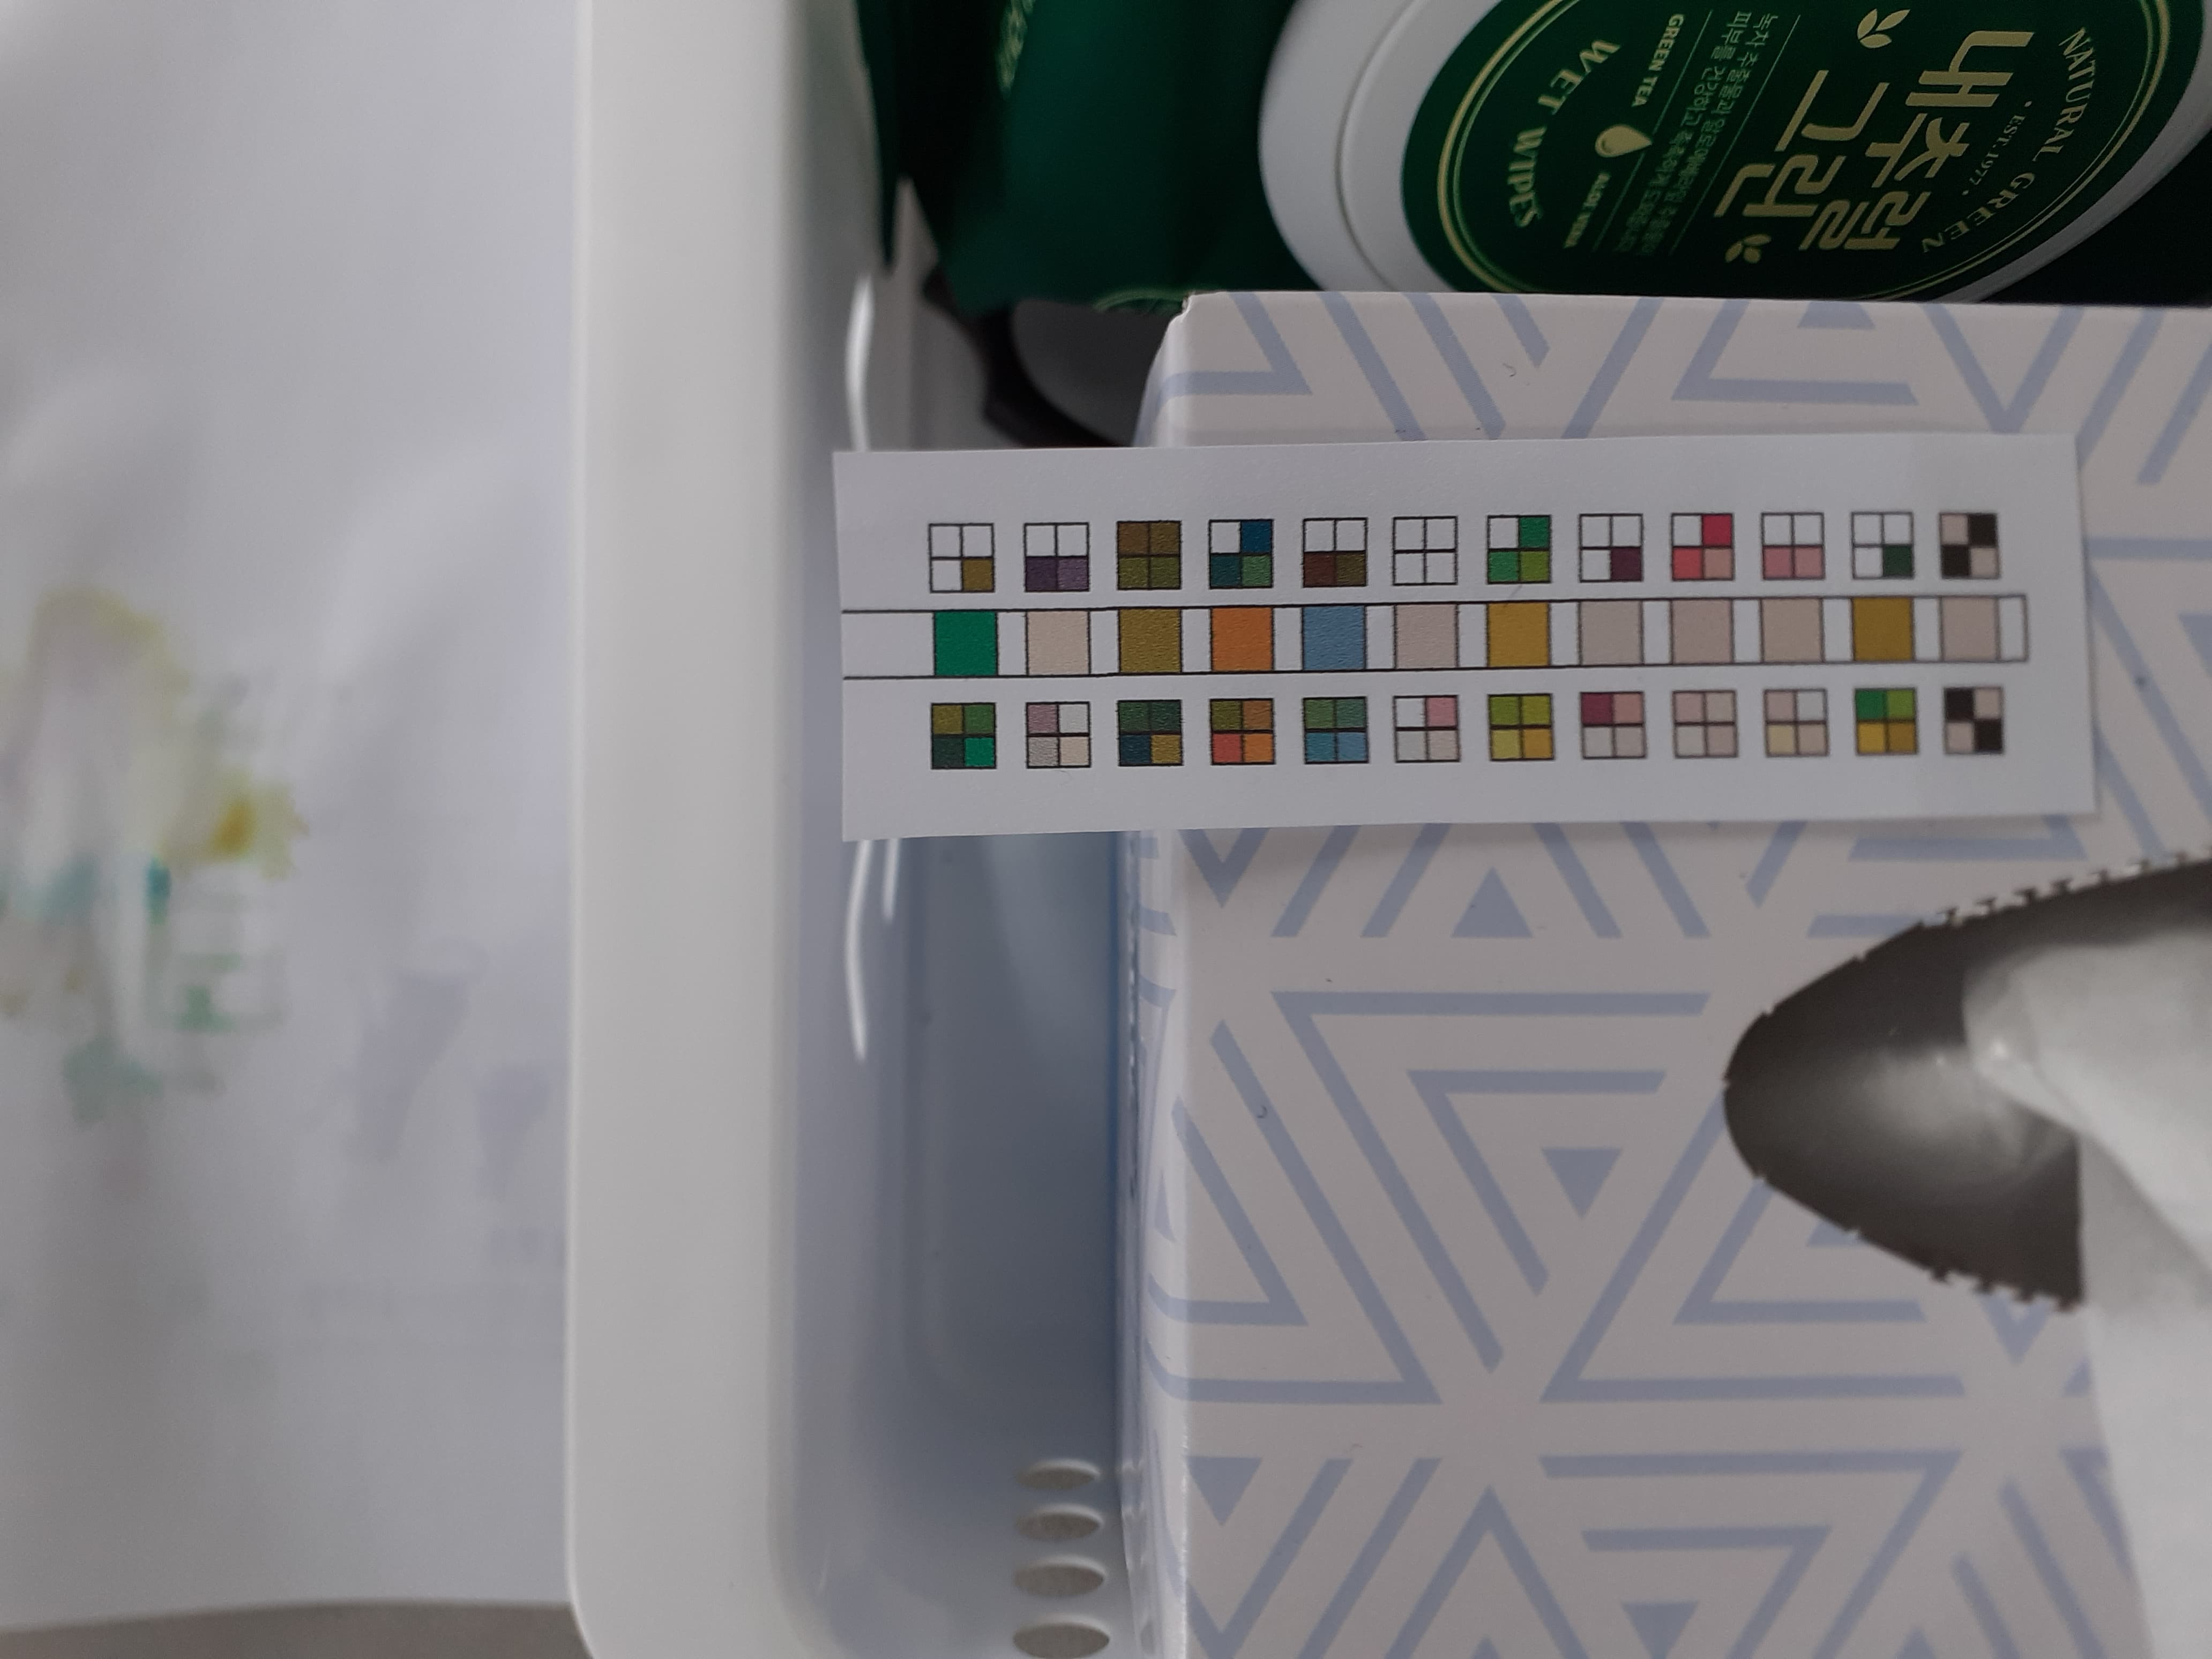tester: (836, 448, 2095, 821)
